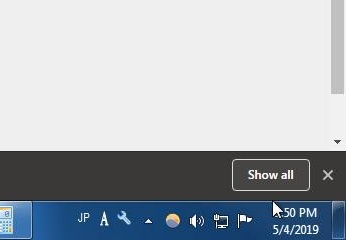cursor: (271, 199, 283, 219)
